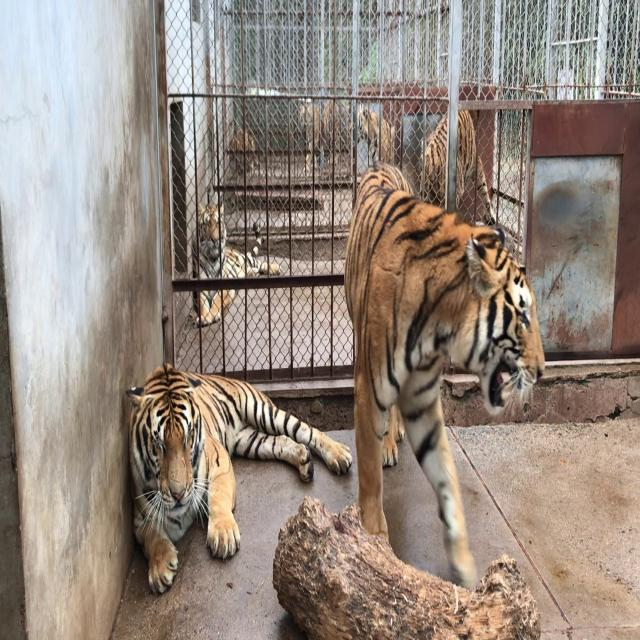Tiger: (332, 133, 553, 618), (78, 348, 362, 606), (190, 198, 282, 326), (416, 106, 496, 225), (298, 96, 344, 176), (350, 98, 396, 162), (226, 124, 258, 173)
